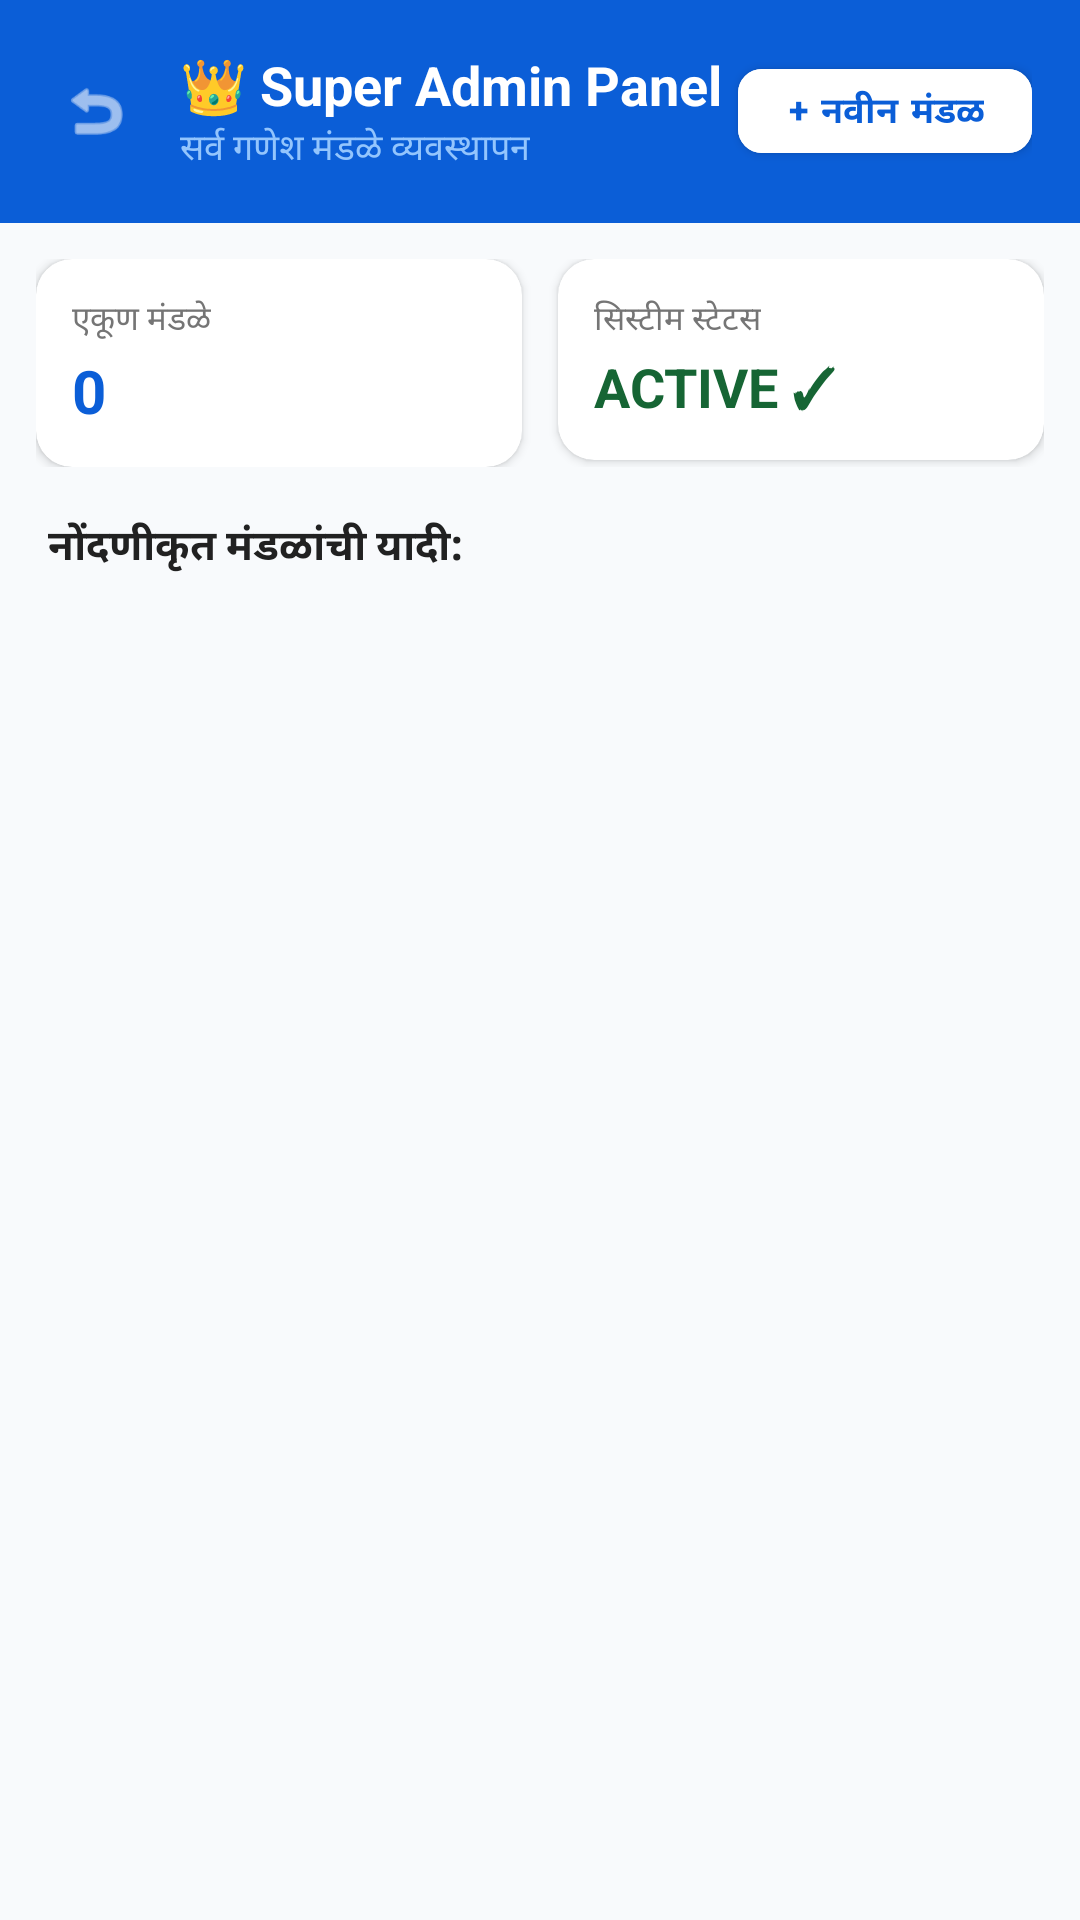

Icons on this 1080x1920 Android screen, each with its box as (x1,y1,x2,y2):
revert: (71,88,123,135)
